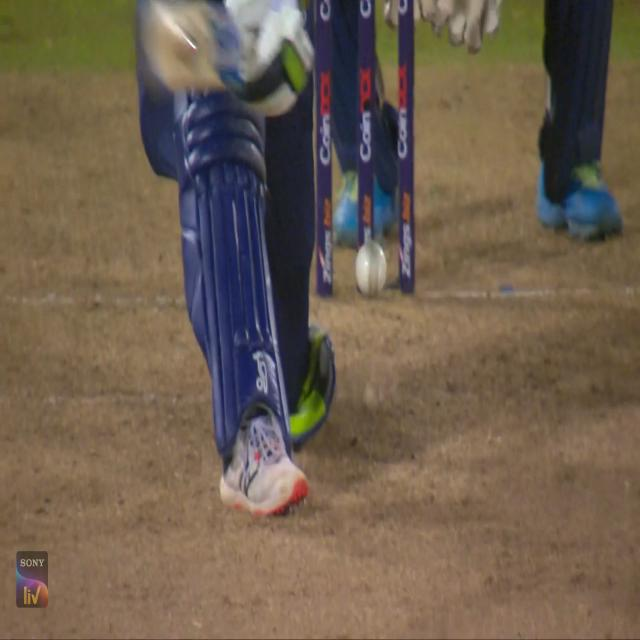ball: (356, 240, 388, 300)
